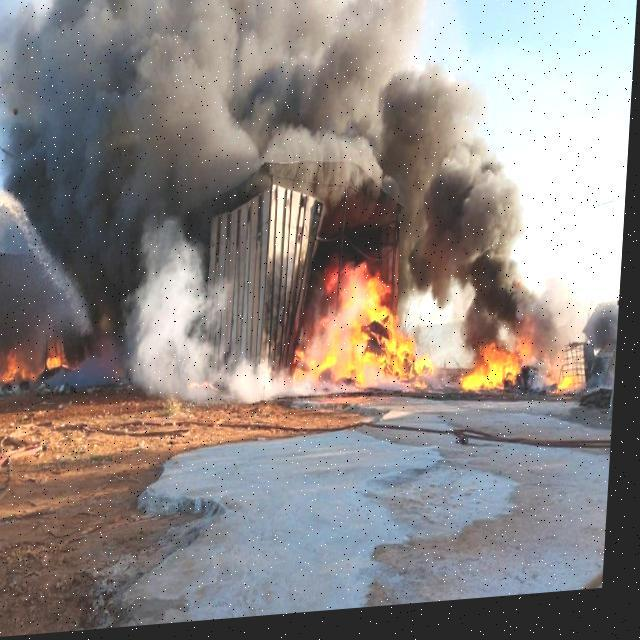Fire: (301, 250, 446, 392), (464, 326, 539, 400), (0, 338, 67, 386), (189, 372, 229, 401), (561, 372, 579, 402)
